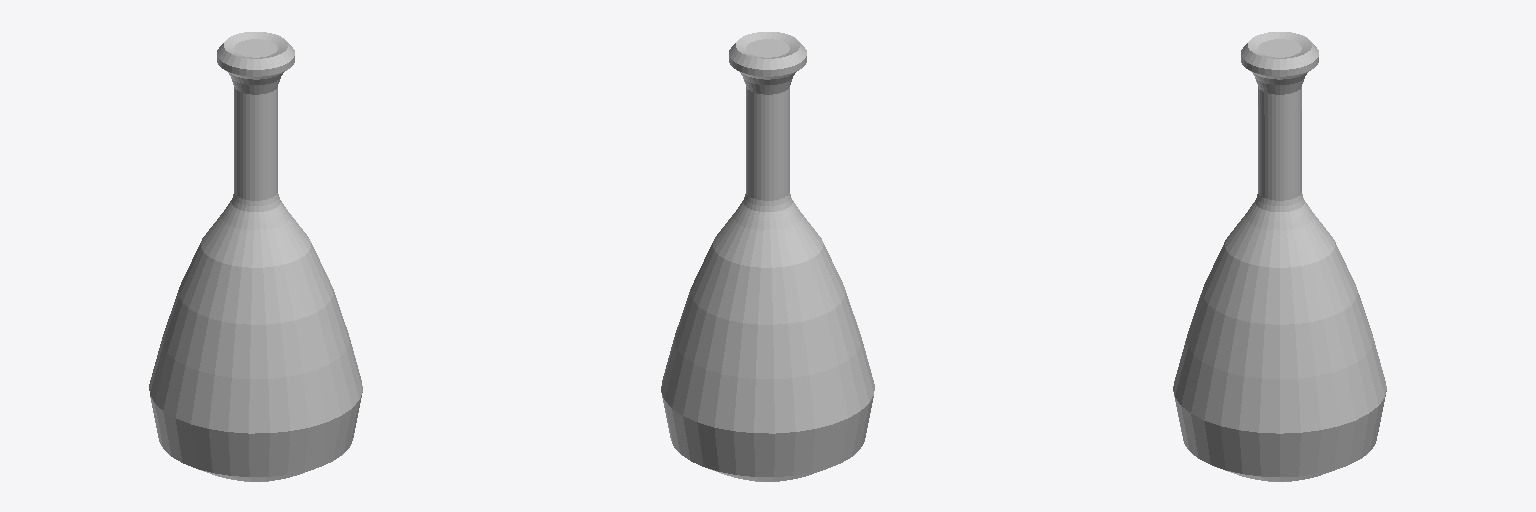
Rendered from erlFlask.obj.
3 views of the same model, side by side, from view 1: azimuth 30°, elevation 25°; view 2: azimuth 150°, elevation 25°; view 3: azimuth 270°, elevation 25° (orthographic).
Parts seen in each view (by area): view 1: Cylinder; view 2: Cylinder; view 3: Cylinder.
Boxes of the visible parts, <box> form: Cylinder: <box>149,32,362,481</box>; Cylinder: <box>661,32,874,481</box>; Cylinder: <box>1173,32,1386,481</box>.
Size of the model in its own units: 4.92 by 10.67 by 4.92.